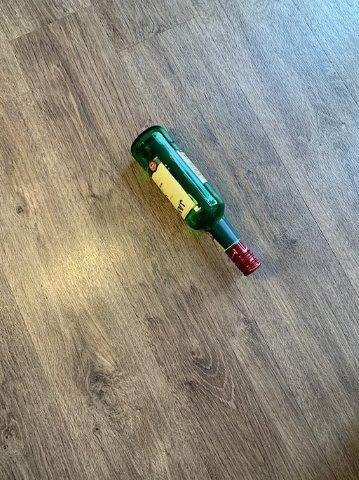botolkaca: (133, 126, 262, 274)
